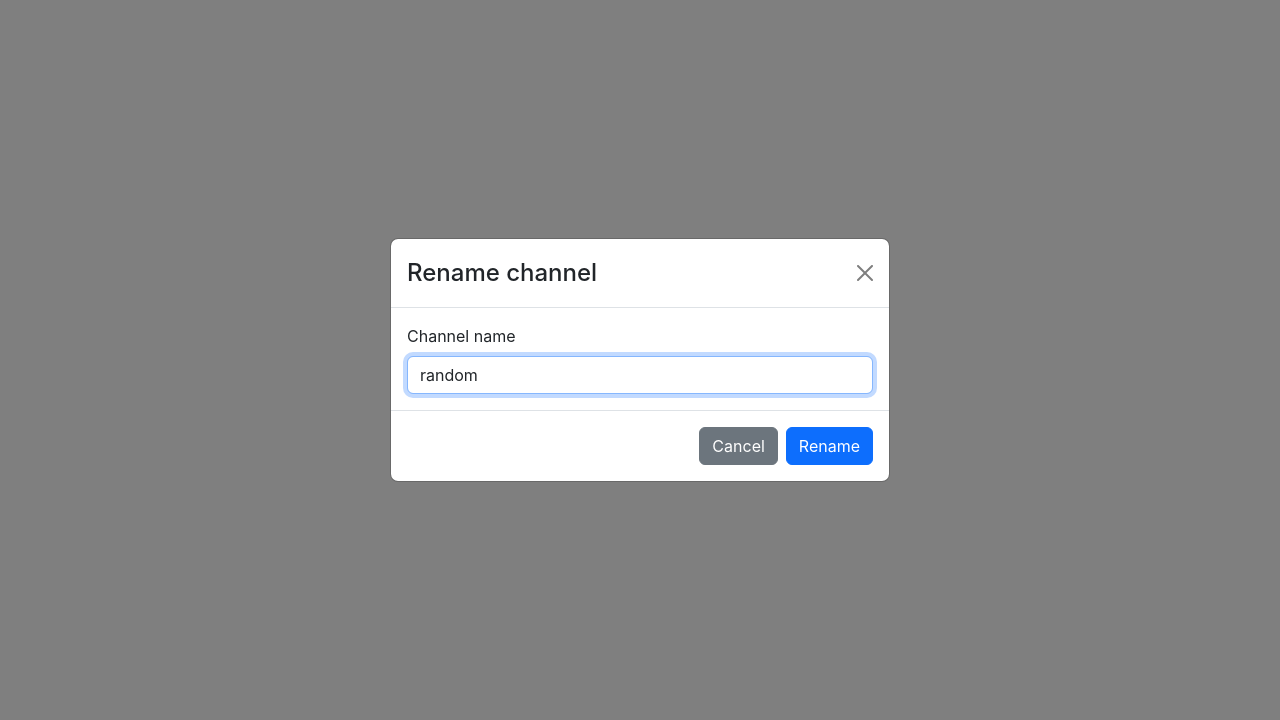
Test: RenameChannelModal › shows network error and keeps modal open when request fails
Replace the text in the field labelled "Channel name" with "renamed" at (640, 375), box [407,356,873,394]
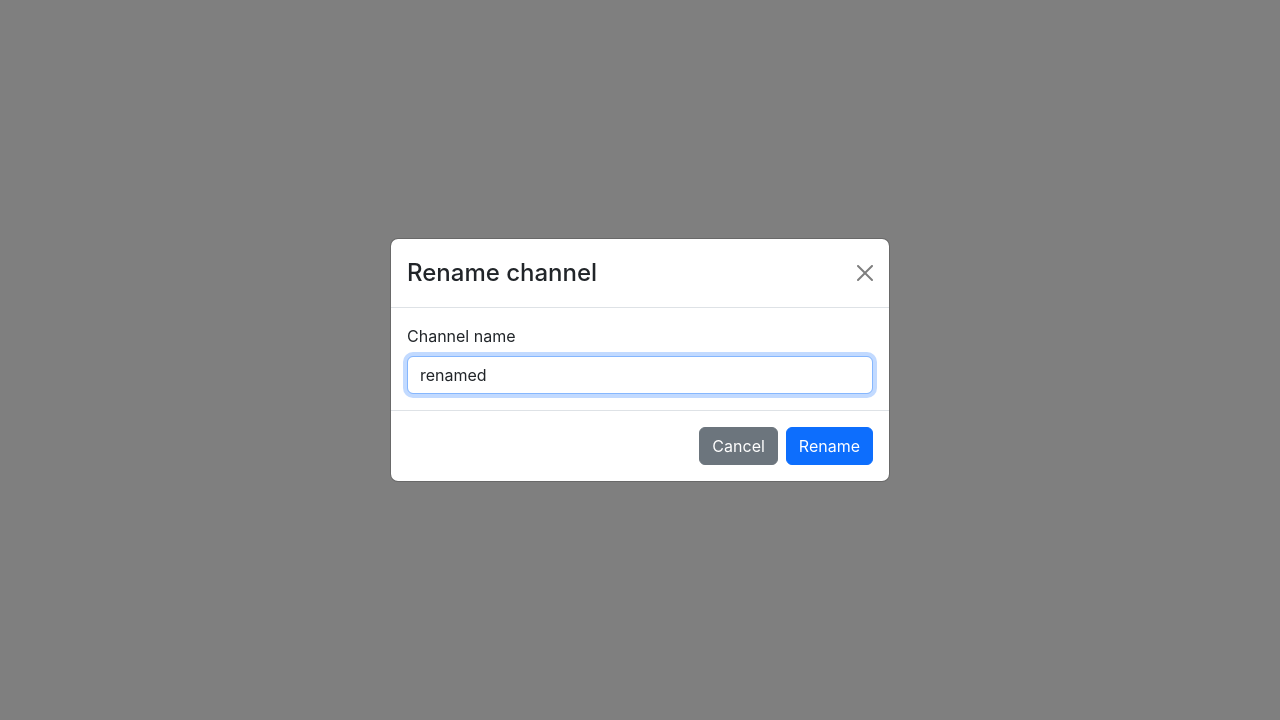
Click the button "Rename".
click(829, 446)  # box [786,427,873,465]
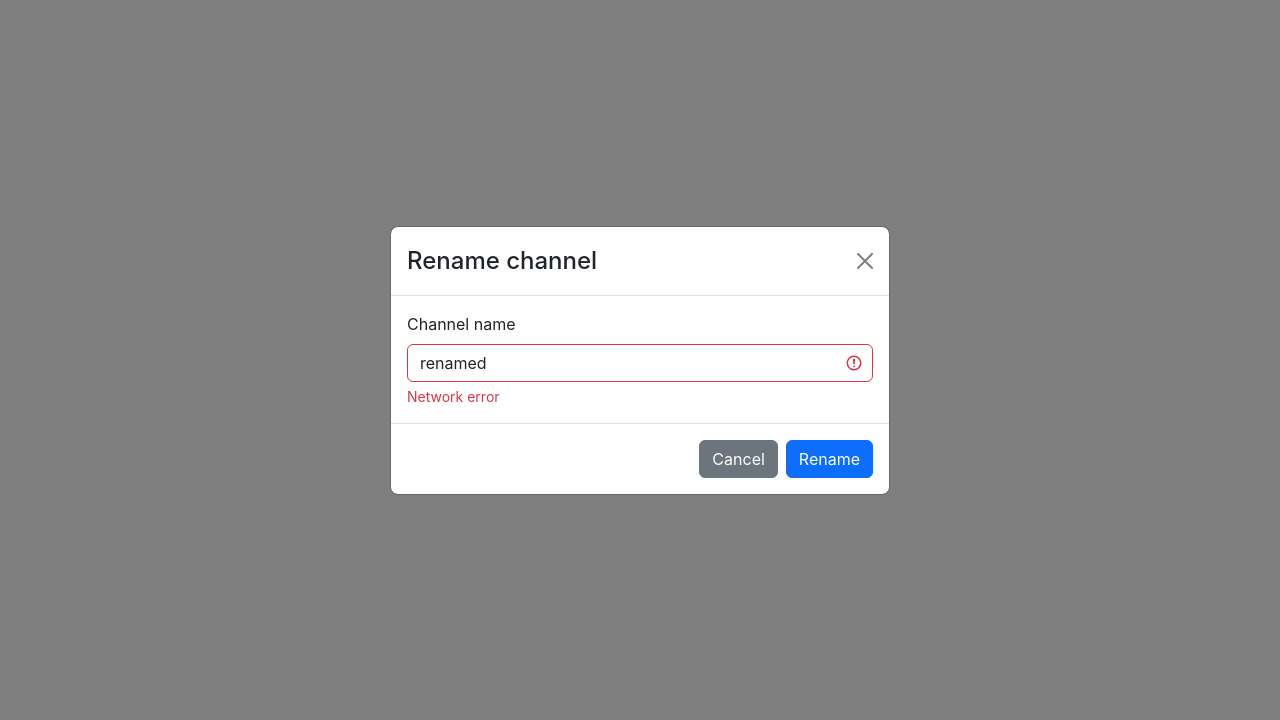
expect the text "Network error" is shown: met, box [407,388,500,404]
